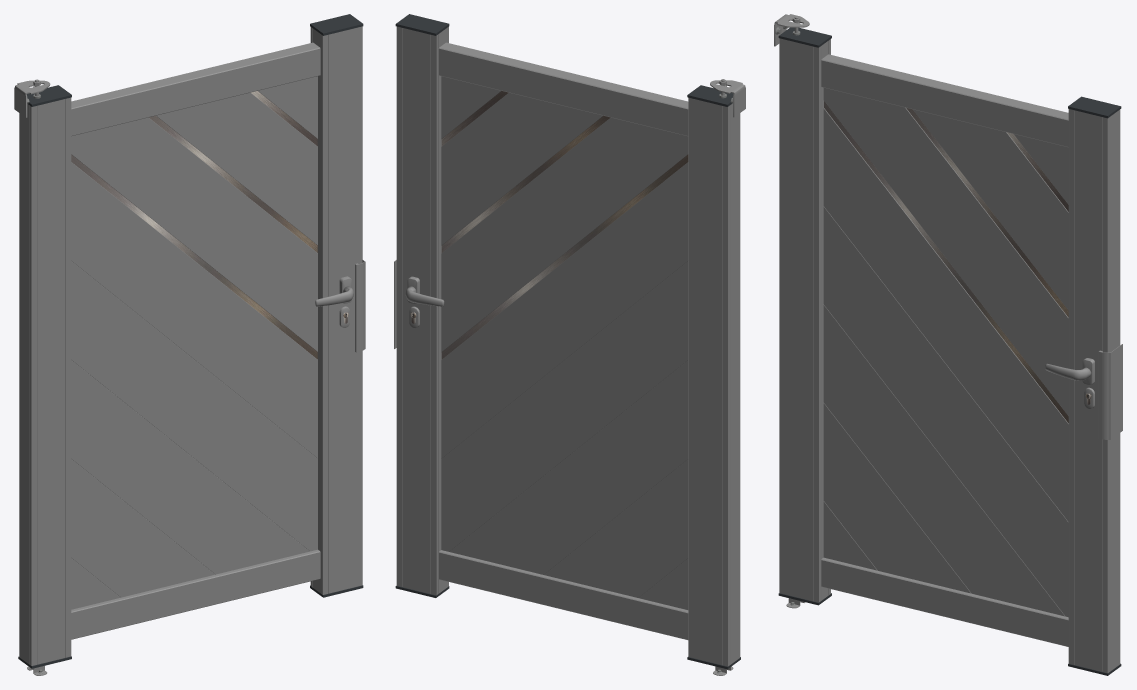
3 renders of one model, left to right at view 1: azimuth 30°, elevation 25°; view 2: azimuth 150°, elevation 25°; view 3: azimuth 330°, elevation 25°, orthographic.
Visible parts, largest first — view 1: Shape310, Shape107412643, Shape107412644, Shape164, Shape163, Shape312, Shape107412637, Box2403, Rectangle057, Box2401; view 2: Shape310, Shape107412643, Shape107412644, Shape164, Shape163, Shape312, Box2403, Rectangle057, Box2401; view 3: Shape310, Shape107412644, Shape107412643, Shape164, Shape163, Shape312, Shape107412637, Box2403, Box2401.
Boxes of the visible parts, x1=… form: Shape310: x1=71, y1=76, x2=317, y2=609; Shape107412643: x1=19, y1=97, x2=71, y2=665; Shape107412644: x1=310, y1=26, x2=362, y2=594; Shape164: x1=71, y1=42, x2=320, y2=136; Shape163: x1=71, y1=549, x2=320, y2=639; Shape312: x1=71, y1=91, x2=317, y2=358; Shape107412637: x1=355, y1=260, x2=365, y2=352; Box2403: x1=310, y1=14, x2=363, y2=35; Rectangle057: x1=14, y1=80, x2=50, y2=117; Box2401: x1=26, y1=85, x2=71, y2=106; Shape310: x1=441, y1=76, x2=688, y2=609; Shape107412643: x1=688, y1=97, x2=740, y2=666; Shape107412644: x1=396, y1=26, x2=448, y2=595; Shape164: x1=438, y1=42, x2=688, y2=136; Shape163: x1=438, y1=550, x2=688, y2=639; Shape312: x1=441, y1=91, x2=688, y2=359; Box2403: x1=395, y1=14, x2=449, y2=35; Rectangle057: x1=710, y1=80, x2=745, y2=117; Box2401: x1=687, y1=85, x2=733, y2=106; Shape310: x1=823, y1=88, x2=1068, y2=617; Shape107412644: x1=1068, y1=109, x2=1120, y2=672; Shape107412643: x1=779, y1=38, x2=830, y2=602; Shape164: x1=821, y1=54, x2=1068, y2=147; Shape163: x1=821, y1=557, x2=1068, y2=646; Shape312: x1=824, y1=101, x2=1068, y2=422; Shape107412637: x1=1098, y1=344, x2=1122, y2=439; Box2403: x1=1068, y1=96, x2=1121, y2=118; Box2401: x1=778, y1=27, x2=831, y2=47.
Size of the model in its own units: 1014 by 1688 by 171.
Materials: 8 (4 with a texture image).
